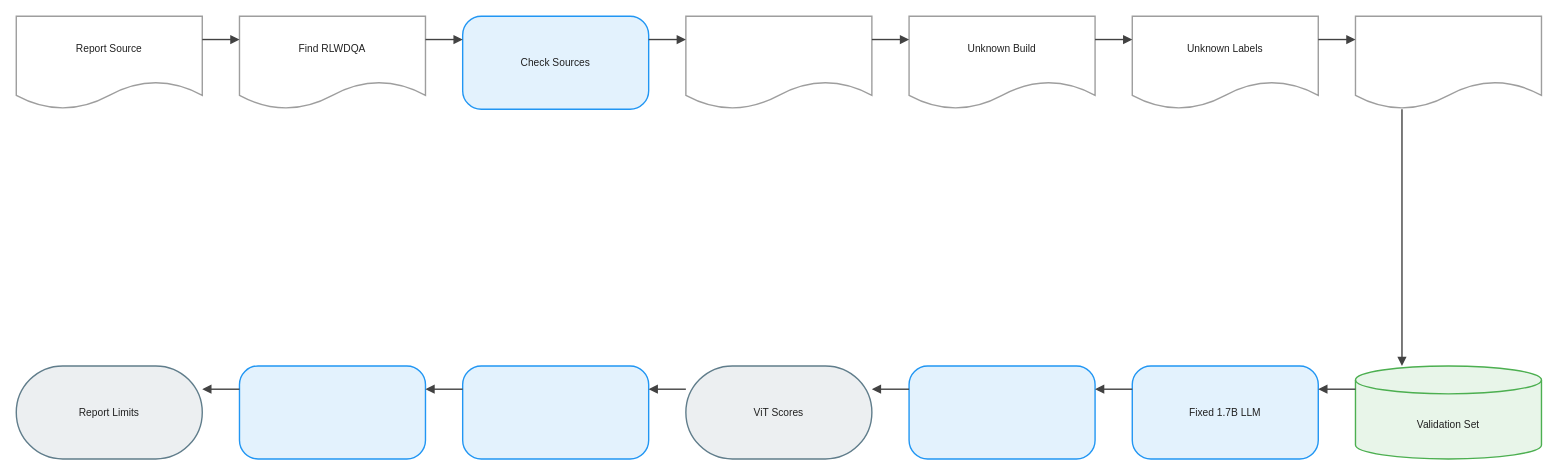
The diagram is 1559 pixels wide and 476 high, and some of its shapes have lost their labels. Each missing label, with the centre of its shape:
"Compare ViTs" goes at (x=1001, y=412).
"DeepStack Test" goes at (x=555, y=412).
"Run Ablation" goes at (x=332, y=412).
"Unknown Origin" goes at (x=778, y=62).
"Unknown Scale" goes at (x=1448, y=62).
